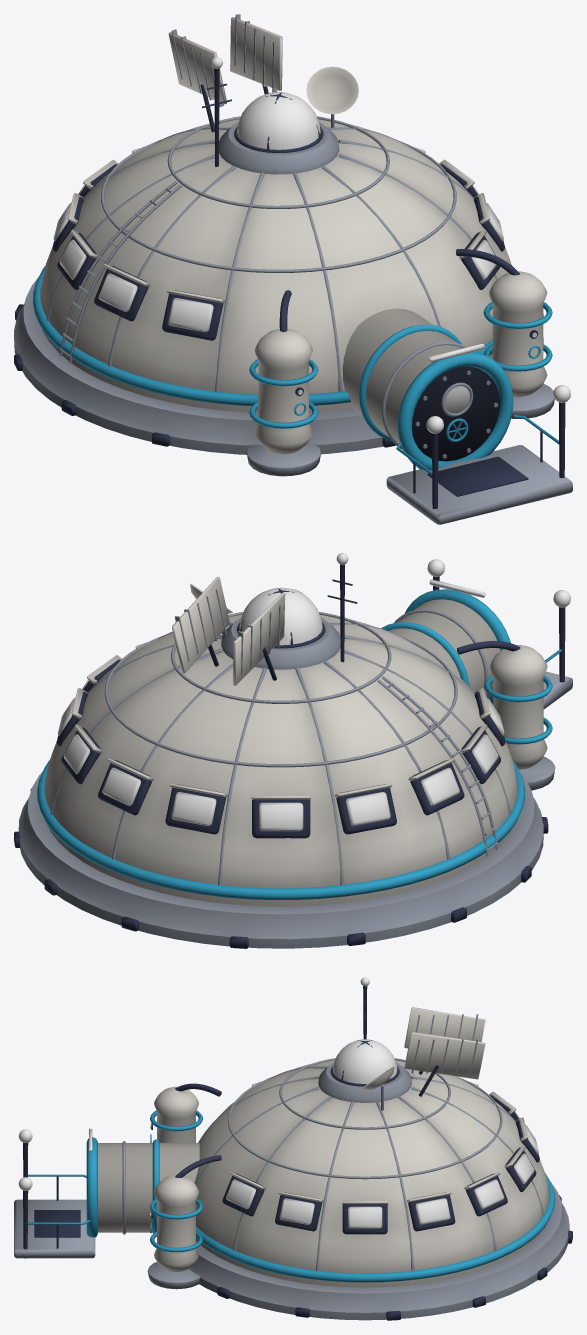
File: hab.glb
3 renders of one model, top to bottom at view 1: azimuth 30°, elevation 25°; view 2: azimuth 150°, elevation 25°; view 3: azimuth 270°, elevation 25°, orthographic. The views are drawn at different scales.
Visible parts, largest first — view 1: hab; view 2: hab; view 3: hab.
Part boxes in pixels (left/top/right/bottom): hab: left=14, top=14, right=572, bottom=524; hab: left=14, top=553, right=572, bottom=948; hab: left=14, top=977, right=572, bottom=1320.
Size of the model in its own units: 14.26 by 8.86 by 19.26.
